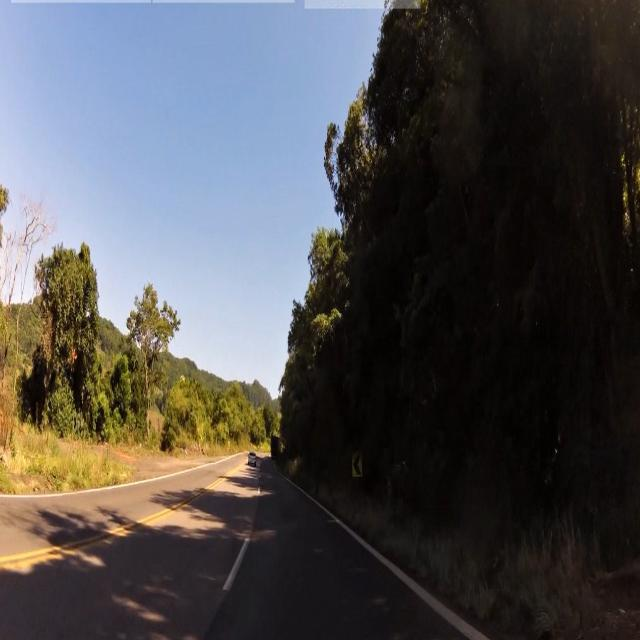Del: (352, 445, 363, 480)
